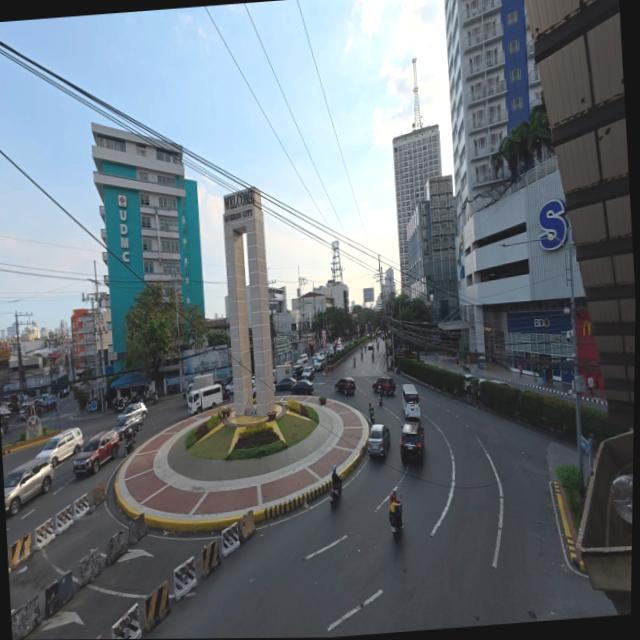car: (4, 458, 54, 516), (74, 430, 120, 476), (400, 422, 424, 462), (367, 424, 390, 457), (114, 415, 144, 439), (120, 402, 147, 419), (372, 376, 396, 395), (335, 377, 355, 395), (291, 379, 313, 395), (276, 377, 296, 391), (464, 373, 477, 392), (290, 365, 304, 379), (489, 379, 510, 387), (302, 367, 314, 380), (297, 354, 308, 365), (313, 359, 323, 371), (225, 380, 233, 393), (366, 342, 374, 351), (337, 345, 343, 353), (251, 376, 255, 386), (1, 428, 4, 437)
motorcycle: (389, 505, 402, 540), (330, 485, 342, 508), (124, 433, 135, 456), (115, 398, 128, 413), (146, 391, 158, 404), (462, 361, 470, 372), (370, 409, 375, 425), (378, 389, 382, 405), (372, 353, 375, 362), (354, 358, 356, 367)
trucks: (185, 373, 214, 398), (274, 363, 294, 382)
vans: (37, 428, 83, 467), (188, 384, 223, 414), (402, 384, 420, 421)
